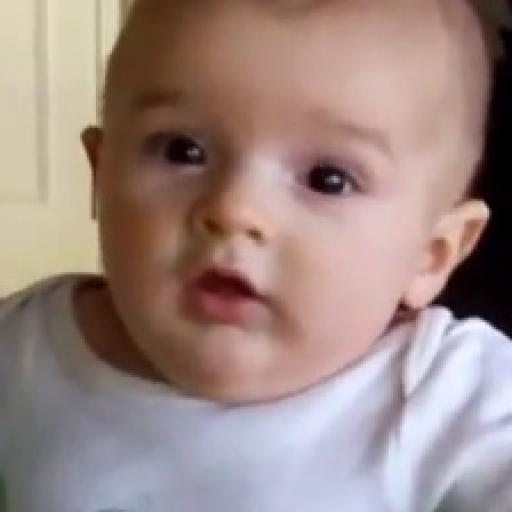Autism: (113, 4, 495, 393)
